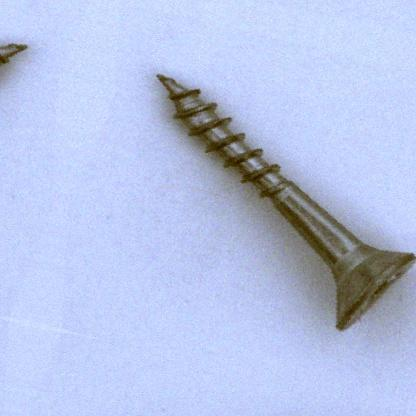metal: (156, 75, 415, 331)
